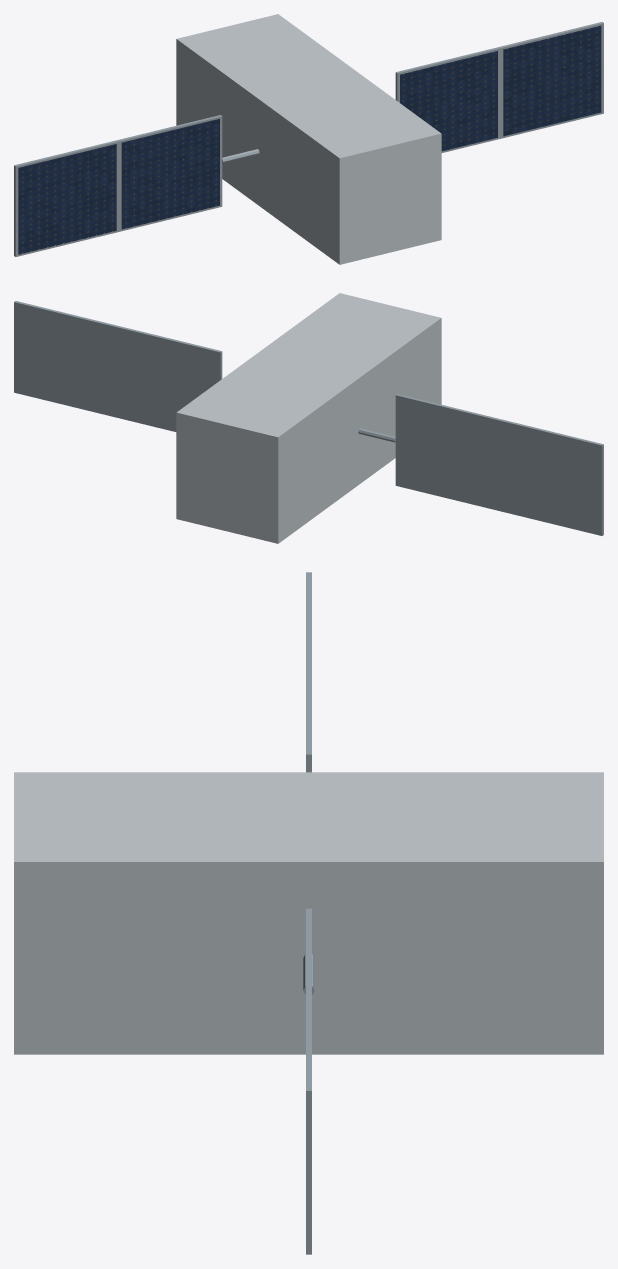
File: ref-slats-43066.glb
3 views of the same model, one above another, from view 1: azimuth 30°, elevation 25°; view 2: azimuth 150°, elevation 25°; view 3: azimuth 270°, elevation 25° (orthographic). The views are drawn at different scales.
Parts seen in each view (by area): view 1: Spacecraft body, Photovoltaic laminates (×4), Array frame (×4); view 2: Spacecraft body, Array frame (×4); view 3: Spacecraft body, Array frame.
Boxes of the visible parts, x1,y1,x2,y2 form: Spacecraft body: (176, 14, 441, 264); Photovoltaic laminates (×4): (18, 25, 601, 254); Array frame (×4): (14, 22, 603, 256); Spacecraft body: (176, 293, 441, 543); Array frame (×4): (14, 301, 603, 535); Spacecraft body: (14, 772, 603, 1054); Array frame: (306, 1000, 311, 1254).
Size of the model in its own units: 5.2 by 0.9 by 2.5.
3 materials, 1 textured.
